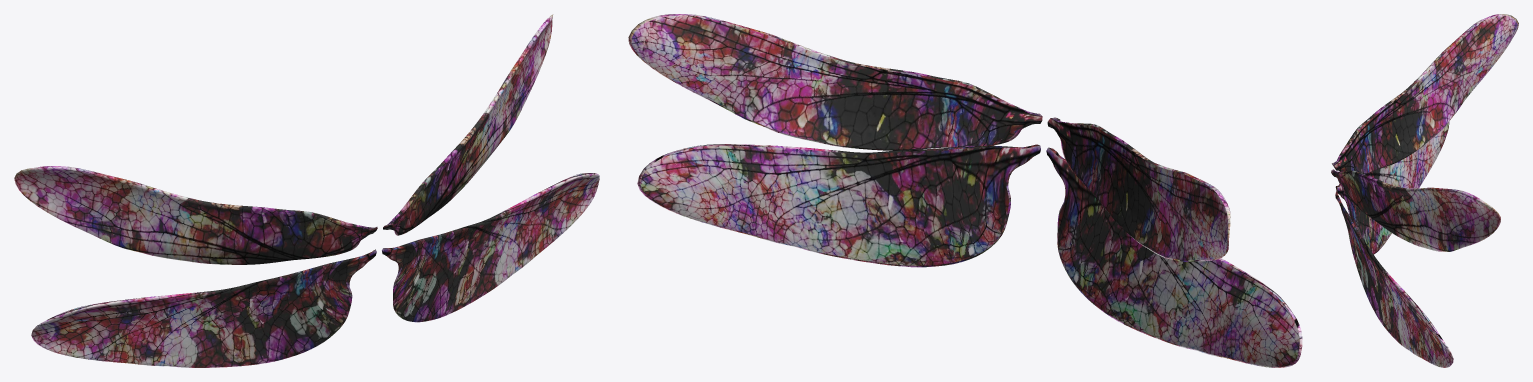
The model's file is dragonflywings.glb.
3 views of the same model, side by side, from view 1: azimuth 30°, elevation 25°; view 2: azimuth 150°, elevation 25°; view 3: azimuth 270°, elevation 25° (orthographic). The views are drawn at different scales.
Parts seen in each view (by area): view 1: dragonflywings; view 2: dragonflywings; view 3: dragonflywings.
Part boxes in pixels (left/top/right/bottom): dragonflywings: left=14, top=14, right=599, bottom=367; dragonflywings: left=628, top=14, right=1302, bottom=367; dragonflywings: left=1331, top=14, right=1518, bottom=367.
Size of the model in its own units: 1.82 by 0.6775 by 0.5872.
Materials: 1 (1 with a texture image).
